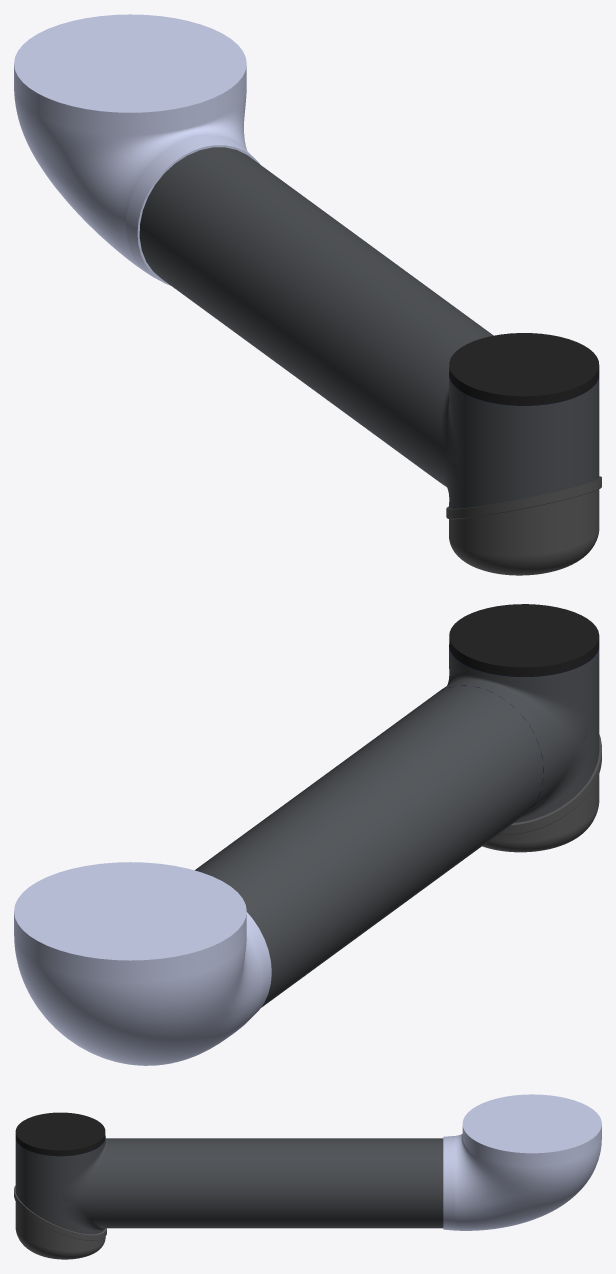
Rendered from Forearm.dae.
3 views of the same model, one above another, from view 1: azimuth 30°, elevation 25°; view 2: azimuth 150°, elevation 25°; view 3: azimuth 270°, elevation 25° (orthographic). The views are drawn at different scales.
Parts seen in each view (by area): view 1: Actor1, Actor3, Actor2, Actor0; view 2: Actor1, Actor3, Actor2, Actor0; view 3: Actor1, Actor3, Actor2, Actor0.
Boxes of the visible parts, x1,y1,x2,y2 form: Actor1: [139, 147, 493, 476]; Actor3: [14, 14, 259, 285]; Actor2: [413, 333, 599, 508]; Actor0: [446, 476, 601, 575]; Actor1: [195, 686, 543, 1007]; Actor3: [14, 862, 271, 1065]; Actor2: [436, 604, 599, 822]; Actor0: [482, 734, 601, 852]; Actor1: [115, 1138, 443, 1228]; Actor3: [443, 1094, 601, 1230]; Actor2: [15, 1112, 115, 1234]; Actor0: [14, 1185, 106, 1259].
Size of the model in its own units: 0.116 by 0.1117 by 0.4892.
